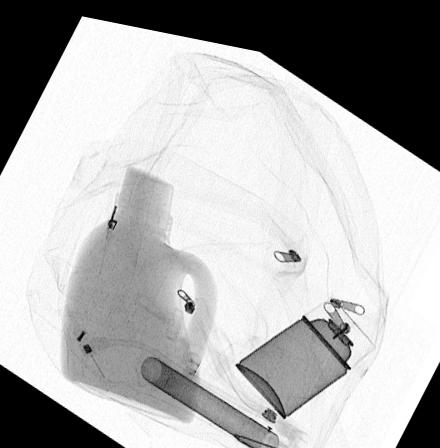Sprayer: (232, 287, 377, 408)
